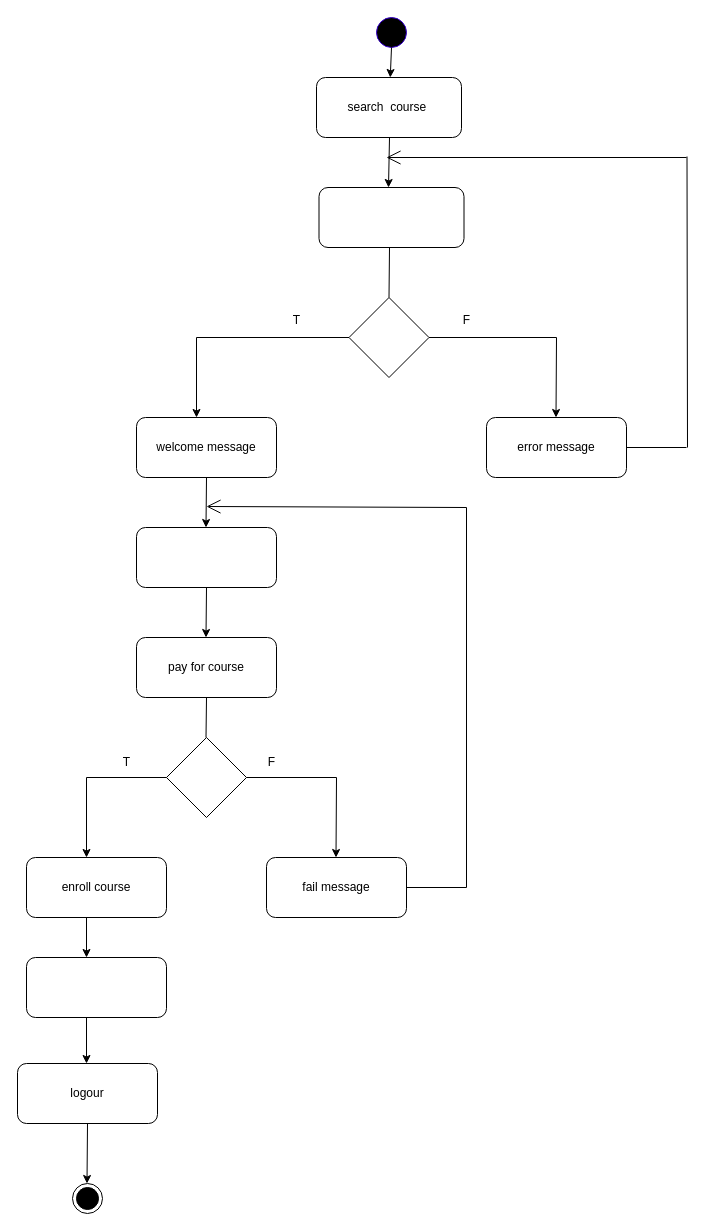
The diagram is 718 pixels wide and 1231 high, and some of its shapes have lost their labels. Each missing label, with the box of its shape:
access materials: (26, 956, 166, 1018)
login / sign up: (318, 186, 464, 248)
select course: (136, 526, 276, 588)
